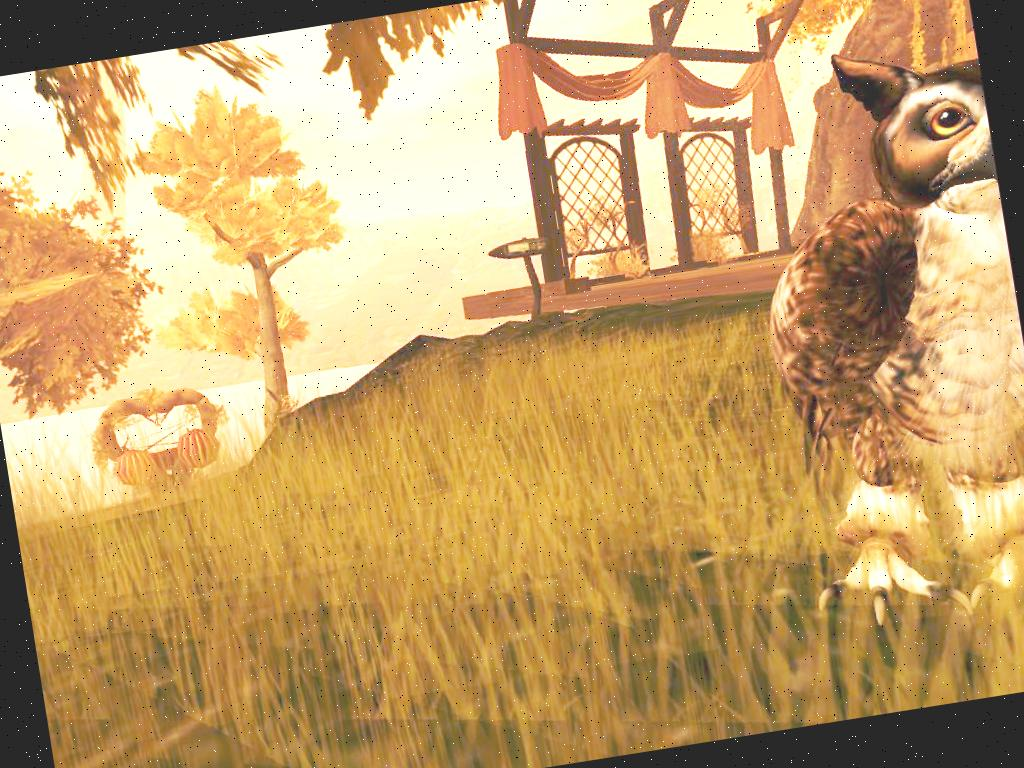Owl: (721, 27, 1024, 635)
